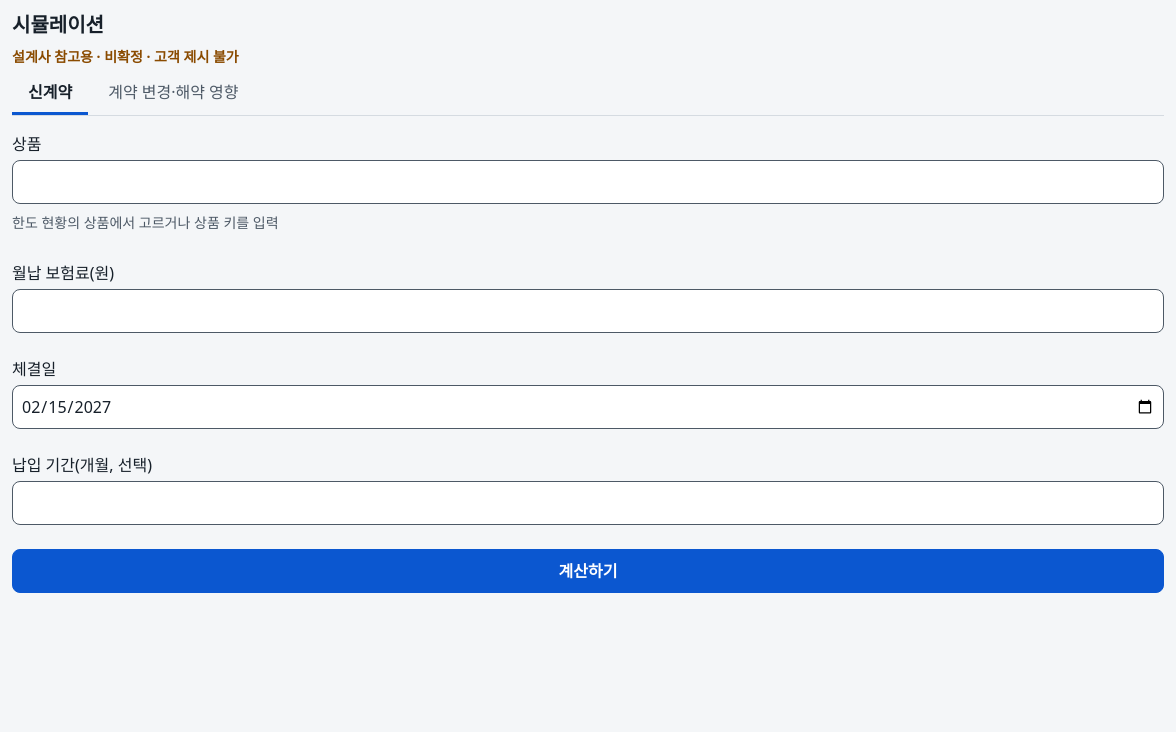
Test: simulation › the contract rules stop bad input before any request
Type "150,000" into the field labelled "월납 보험료(원)".
click(588, 311); type("150,000")  # box [12, 289, 1164, 333]
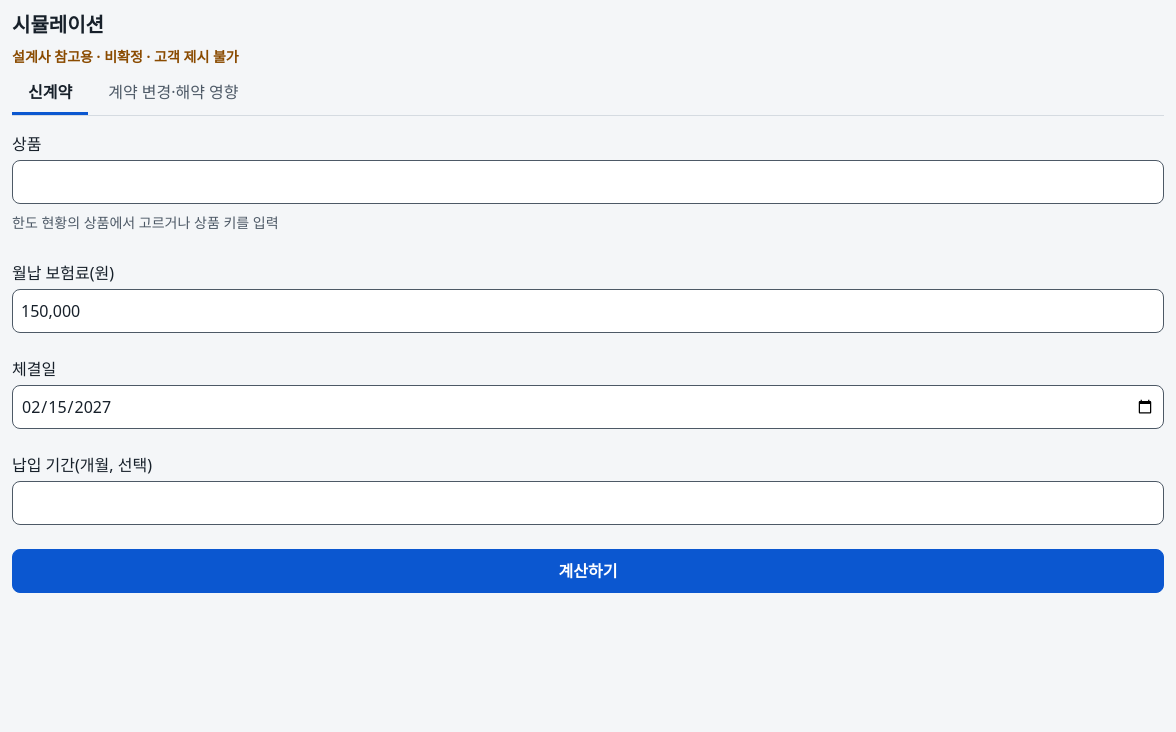
Type "0" into the field labelled "납입 기간(개월, 선택)".
click(588, 503); type("0")  # box [12, 481, 1164, 525]
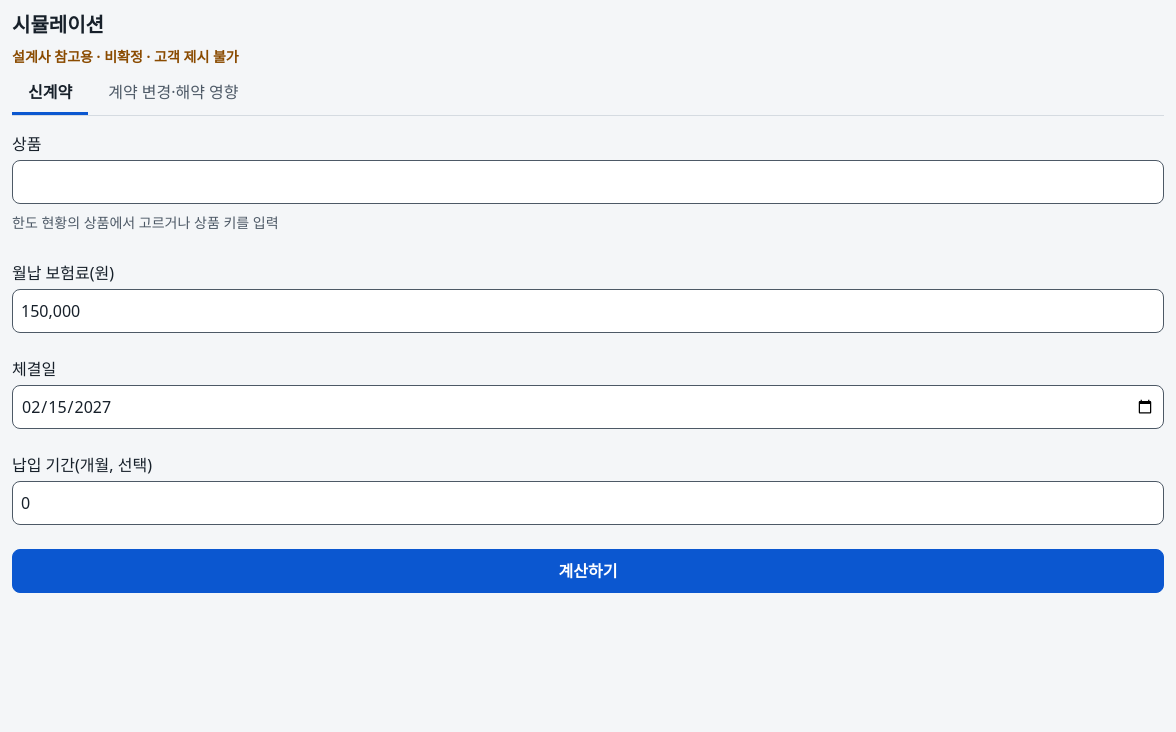
Type "2027-13-01" into the date field labelled "체결일".
click(588, 407); type("2027-13-01")  # box [12, 385, 1164, 429]
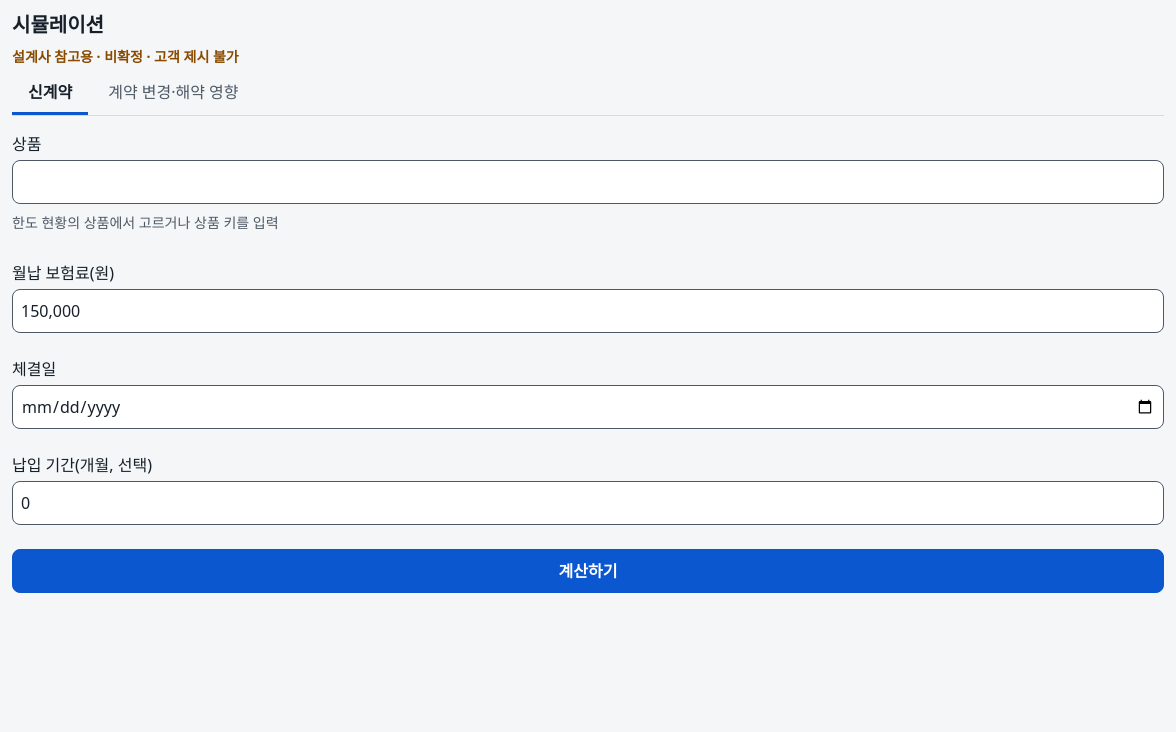
Submit the form with test id "form-new"
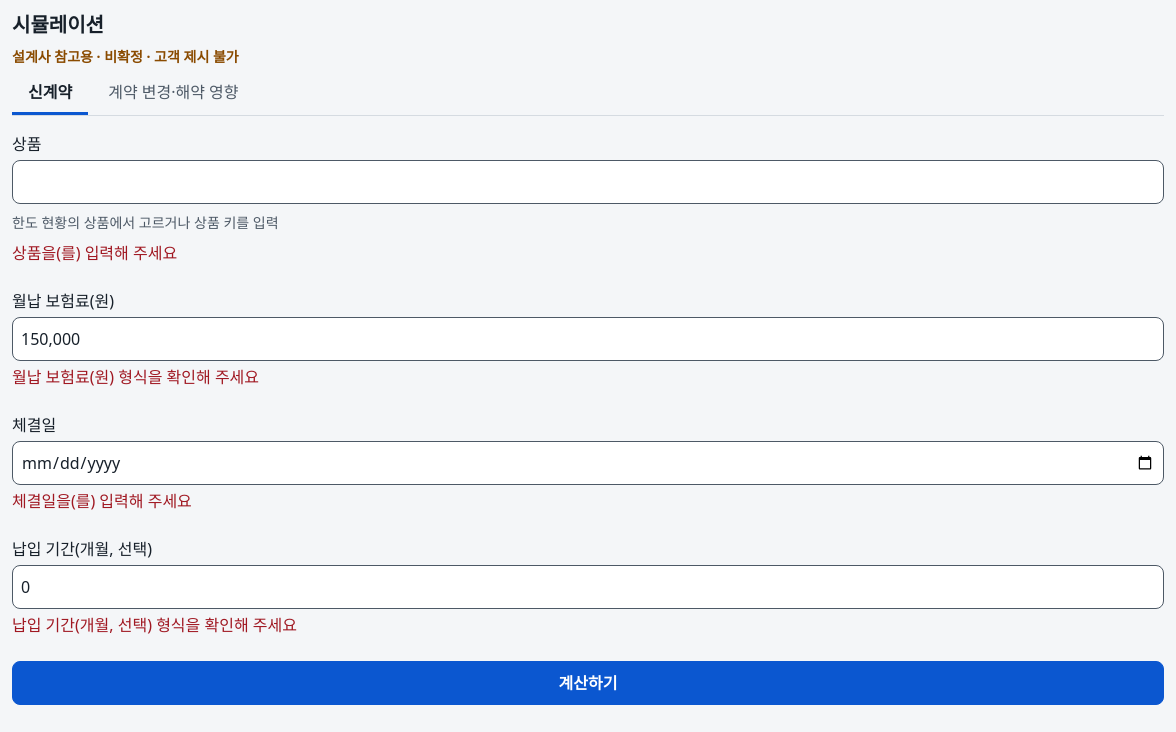
Check: the text with test id "error-productKey" reads "상품을(를) 입력해 주세요", box [12, 242, 177, 264]
Check: the text with test id "error-monthlyPremium" reads "월납 보험료(원) 형식을 확인해 주세요", box [12, 366, 259, 388]
Check: the text "납입 기간(개월, 선택) 형식을 확인해 주세요" is shown, box [12, 614, 297, 636]
